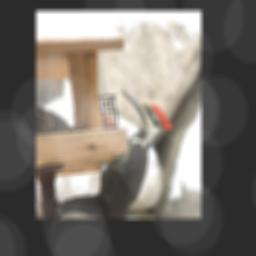Woodpecker: (50, 90, 180, 218)
